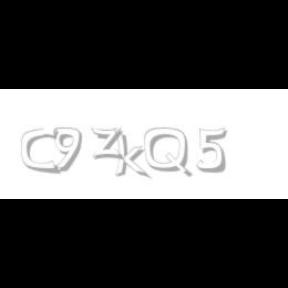5: (197, 128, 228, 174)
9: (54, 128, 82, 172)
C: (22, 128, 58, 174)
Q: (144, 128, 190, 178)
k: (113, 128, 151, 180)
z: (91, 128, 127, 160)
